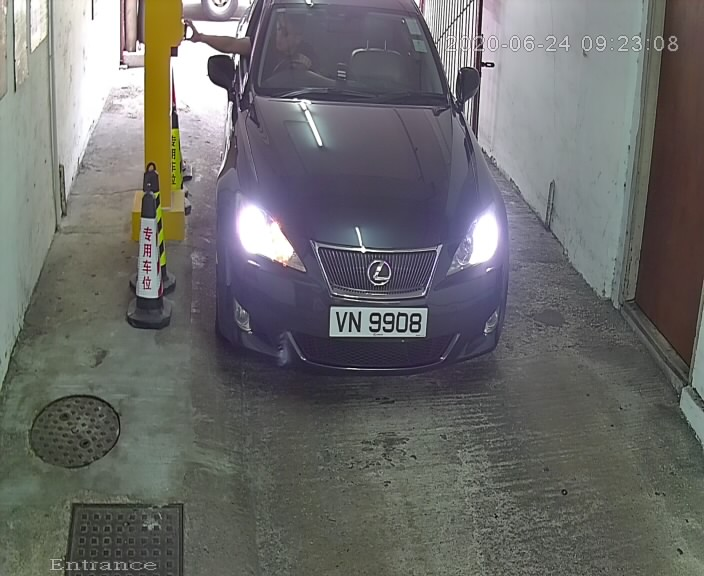Car: (190, 1, 519, 401)
License Plate: (326, 301, 430, 344)
